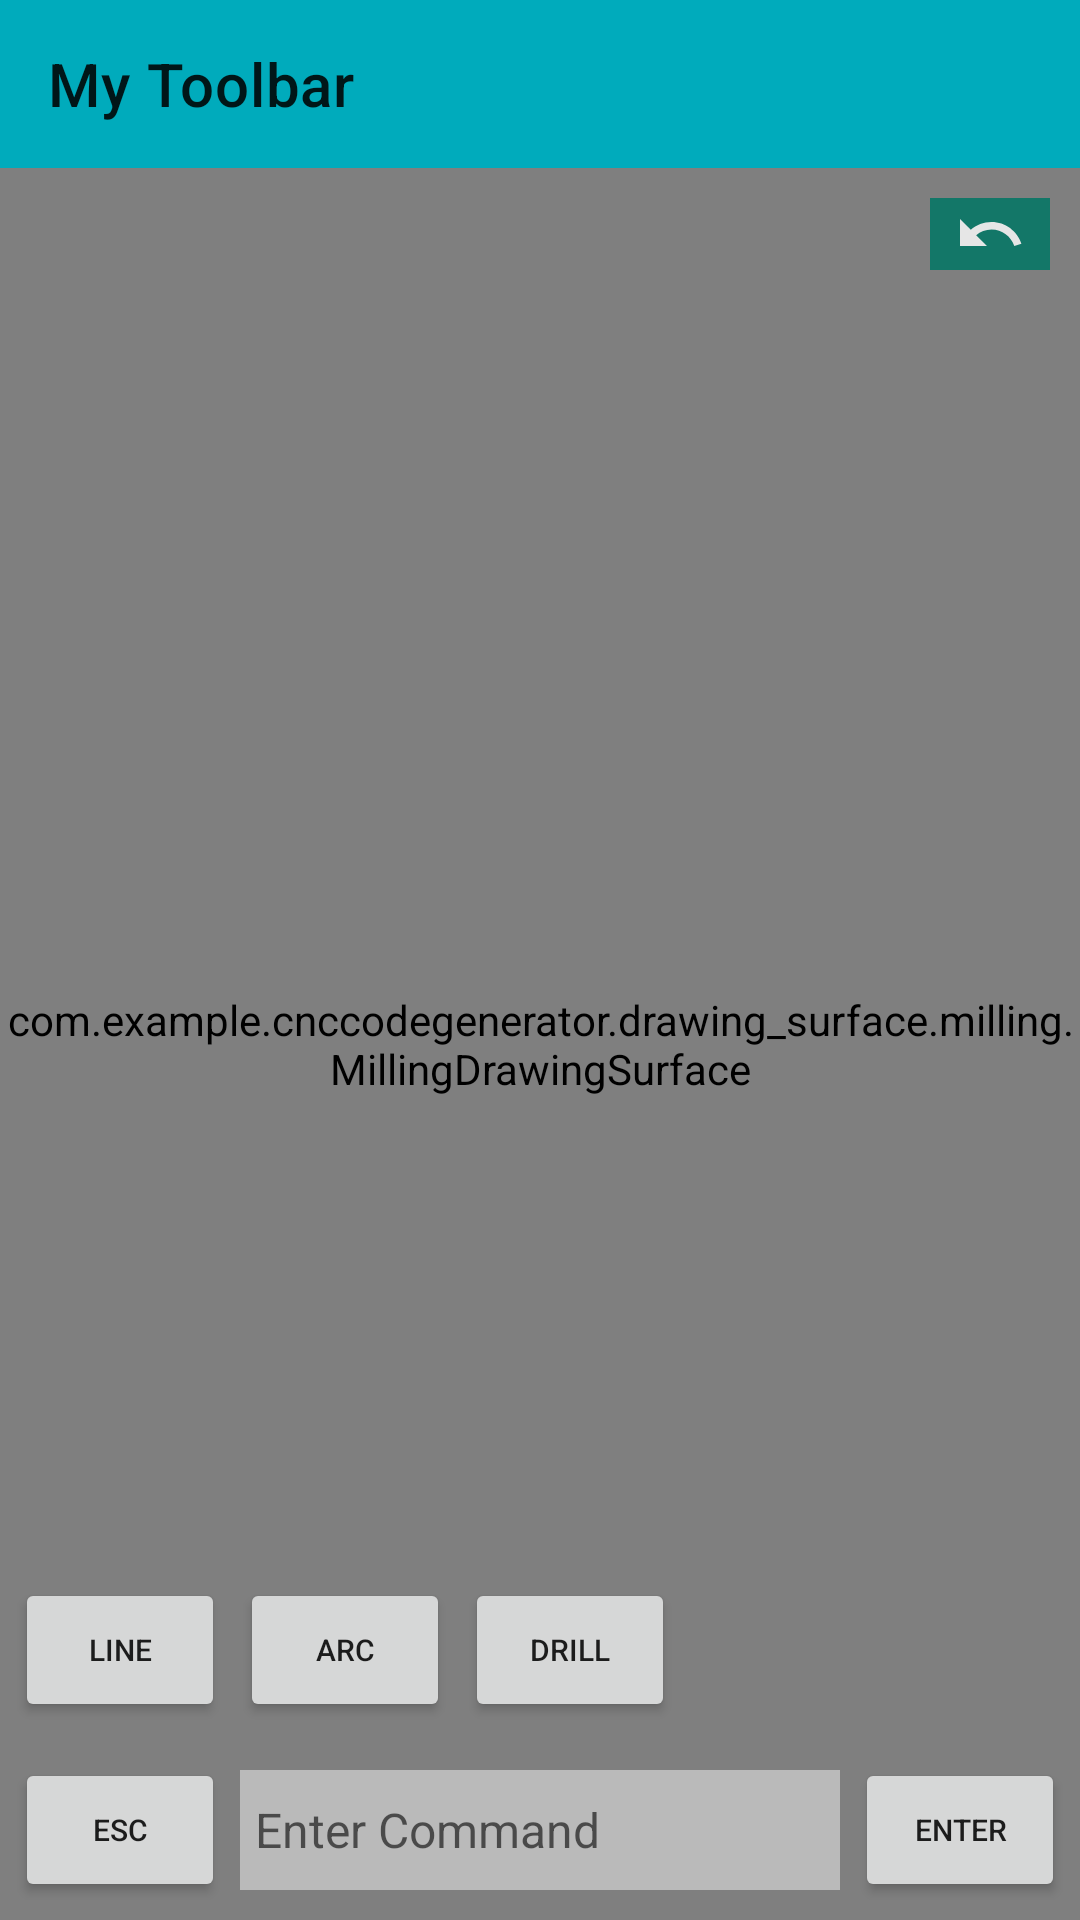

Screen size 1080 × 1920. Icon name, then its center in pixels as (x,y):
undo: (990,234)
